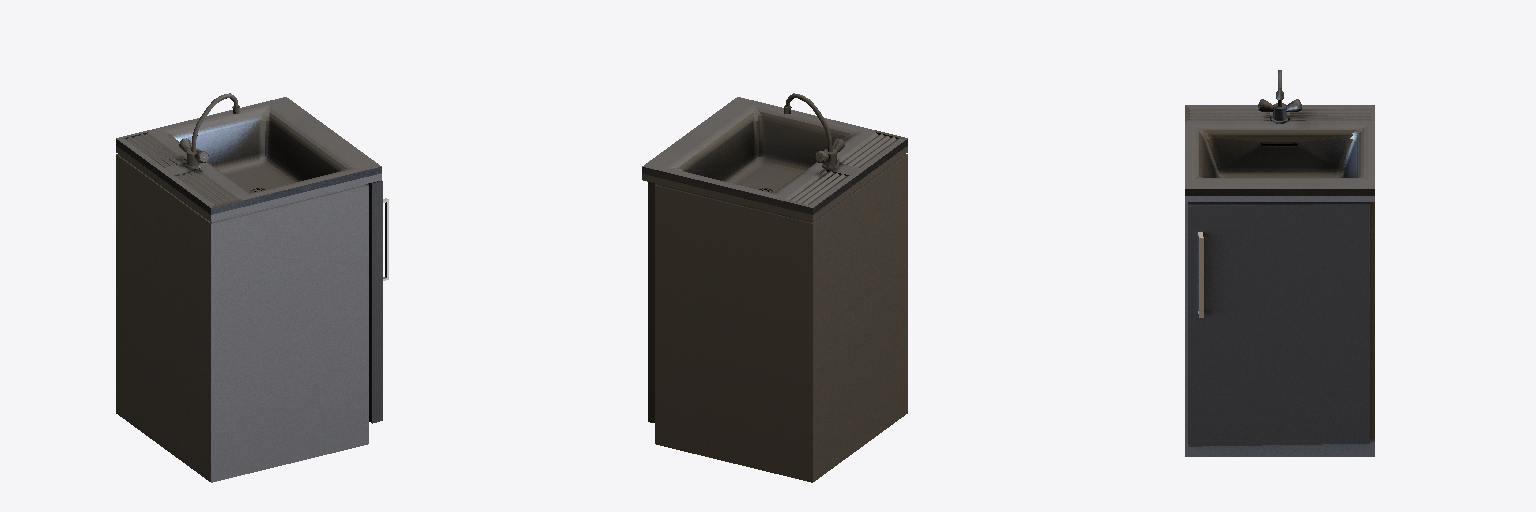
3 renders of one model, left to right at view 1: azimuth 30°, elevation 25°; view 2: azimuth 150°, elevation 25°; view 3: azimuth 270°, elevation 25°, orthographic.
Visible parts, largest first — view 1: evier_Cube.006; view 2: evier_Cube.006; view 3: evier_Cube.006.
Boxes of the visible parts, x1=… form: evier_Cube.006: x1=116, y1=93, x2=388, y2=482; evier_Cube.006: x1=642, y1=93, x2=907, y2=482; evier_Cube.006: x1=1185, y1=70, x2=1374, y2=456.
Size of the model in its own units: 1.41 by 2.47 by 1.26.
1 materials, 1 textured.